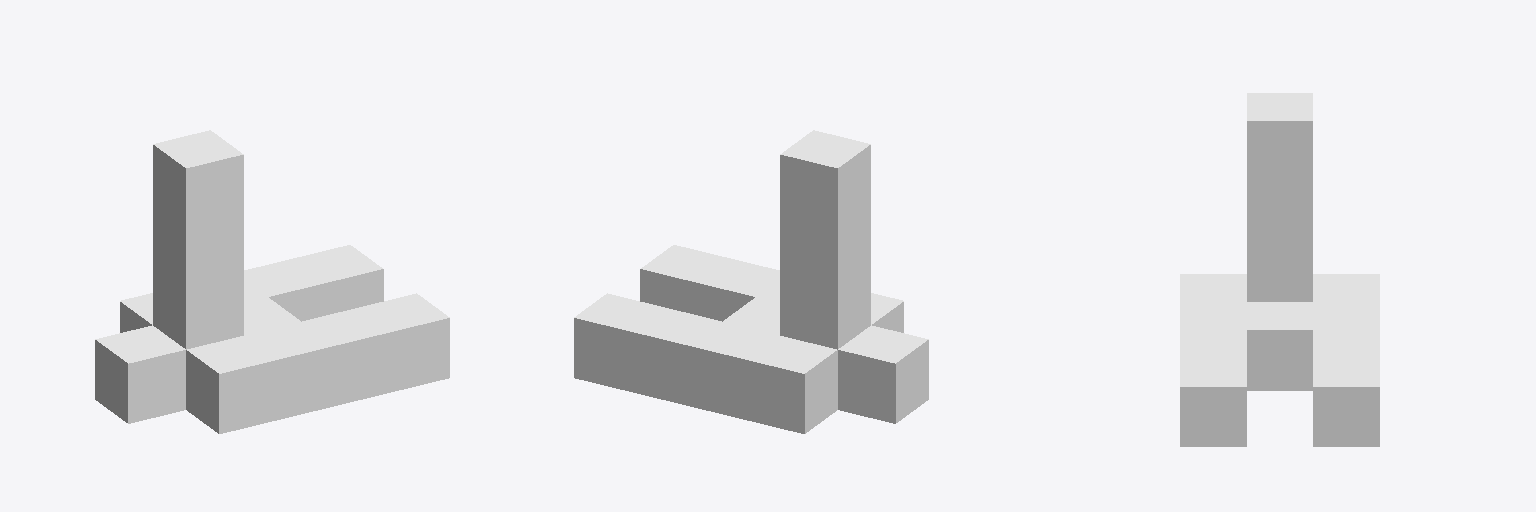
The model's file is ChicBody-0.obj.
3 views of the same model, side by side, from view 1: azimuth 30°, elevation 25°; view 2: azimuth 150°, elevation 25°; view 3: azimuth 270°, elevation 25° (orthographic).
Visible parts, largest first — view 1: object 1; view 2: object 1; view 3: object 1.
Boxes of the visible parts, x1=… form: object 1: x1=95, y1=130, x2=449, y2=433; object 1: x1=574, y1=130, x2=928, y2=433; object 1: x1=1180, y1=93, x2=1379, y2=446.
Size of the model in its own units: 0.5 by 0.4 by 0.3.